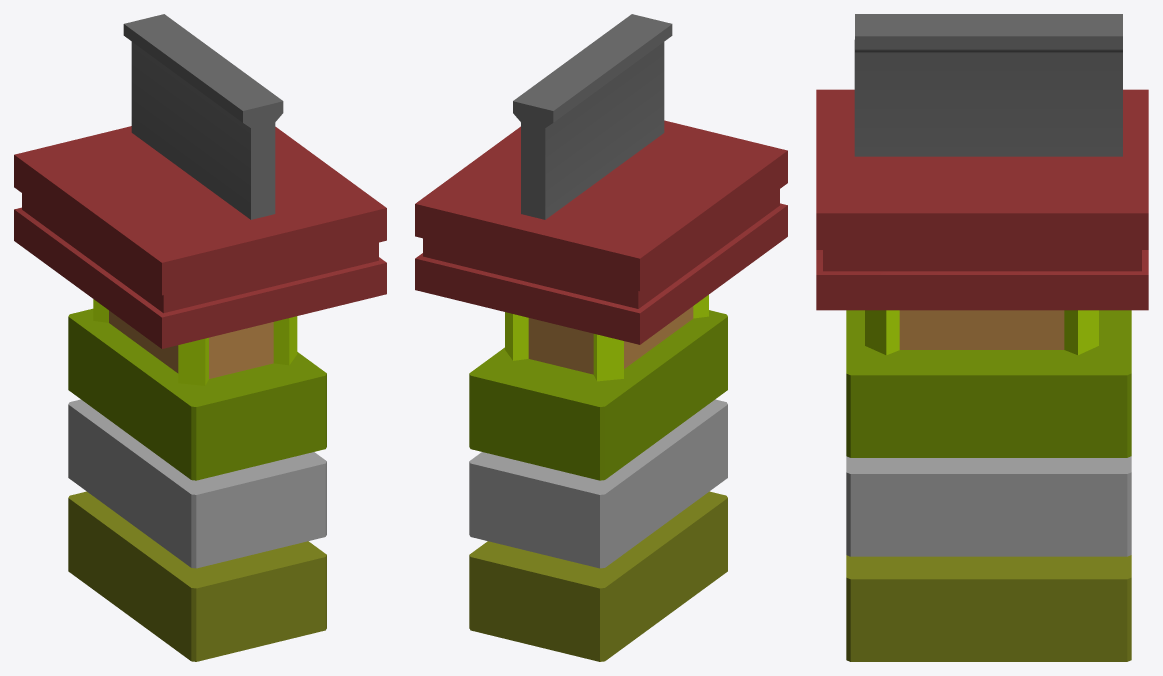
Rendered from Assets_Environment.fbx.
The picture shows the model from 3 angles, left to right: view 1: azimuth 30°, elevation 25°; view 2: azimuth 150°, elevation 25°; view 3: azimuth 270°, elevation 25°; orthographic projection. The views are drawn at different scales.
Visible parts, largest first — view 1: pCube4, pCube6, pCube8, pCube7, pCube5, pCube1; view 2: pCube4, pCube6, pCube8, pCube7, pCube5, pCube1; view 3: pCube4, pCube5, pCube6, pCube8, pCube7, pCube1.
Boxes of the visible parts, x1,y1,x2,y2 form: pCube4: (14, 126, 386, 348); pCube6: (68, 308, 326, 480); pCube8: (68, 491, 326, 661); pCube7: (68, 399, 326, 568); pCube5: (123, 14, 283, 219); pCube1: (93, 299, 297, 385); pCube4: (415, 120, 787, 344); pCube6: (469, 310, 727, 480); pCube8: (469, 491, 727, 661); pCube7: (469, 399, 727, 568); pCube5: (513, 14, 672, 219); pCube1: (505, 295, 708, 381); pCube4: (816, 89, 1148, 310); pCube5: (854, 14, 1122, 156); pCube6: (846, 310, 1131, 457); pCube8: (846, 555, 1131, 661); pCube7: (846, 456, 1131, 556); pCube1: (865, 310, 1098, 355).
Size of the model in its own units: 22.83 by 51.96 by 25.98.
